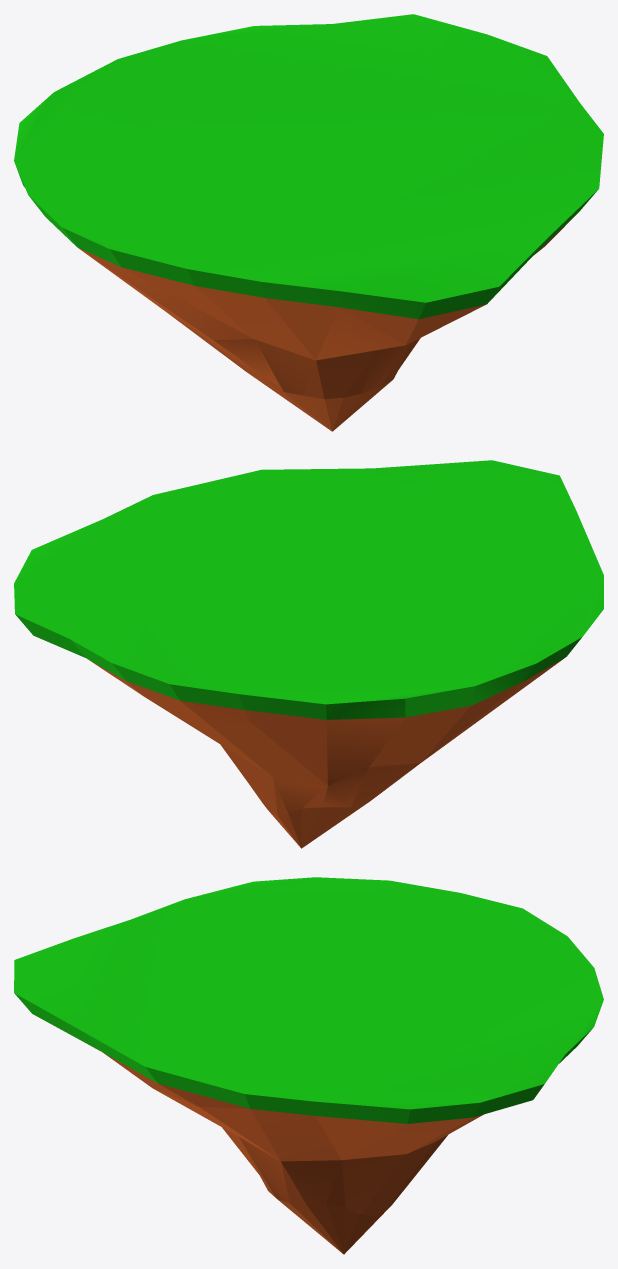
The model's file is single_island.obj.
3 renders of one model, top to bottom at view 1: azimuth 30°, elevation 25°; view 2: azimuth 150°, elevation 25°; view 3: azimuth 270°, elevation 25°, orthographic. The views are drawn at different scales.
Visible parts, largest first — view 1: Grass_Cylinder.002, Dirt_Cylinder.001; view 2: Grass_Cylinder.002, Dirt_Cylinder.001; view 3: Grass_Cylinder.002, Dirt_Cylinder.001.
Part boxes in pixels (box(x1,y1,x2,y2)): Grass_Cylinder.002: box(14, 14, 603, 319); Dirt_Cylinder.001: box(78, 213, 577, 431); Grass_Cylinder.002: box(14, 460, 603, 719); Dirt_Cylinder.001: box(88, 657, 565, 848); Grass_Cylinder.002: box(14, 877, 603, 1123); Dirt_Cylinder.001: box(60, 1029, 483, 1254).
Bounding box in the file's own units: 23.64 × 12.06 × 25.28.
